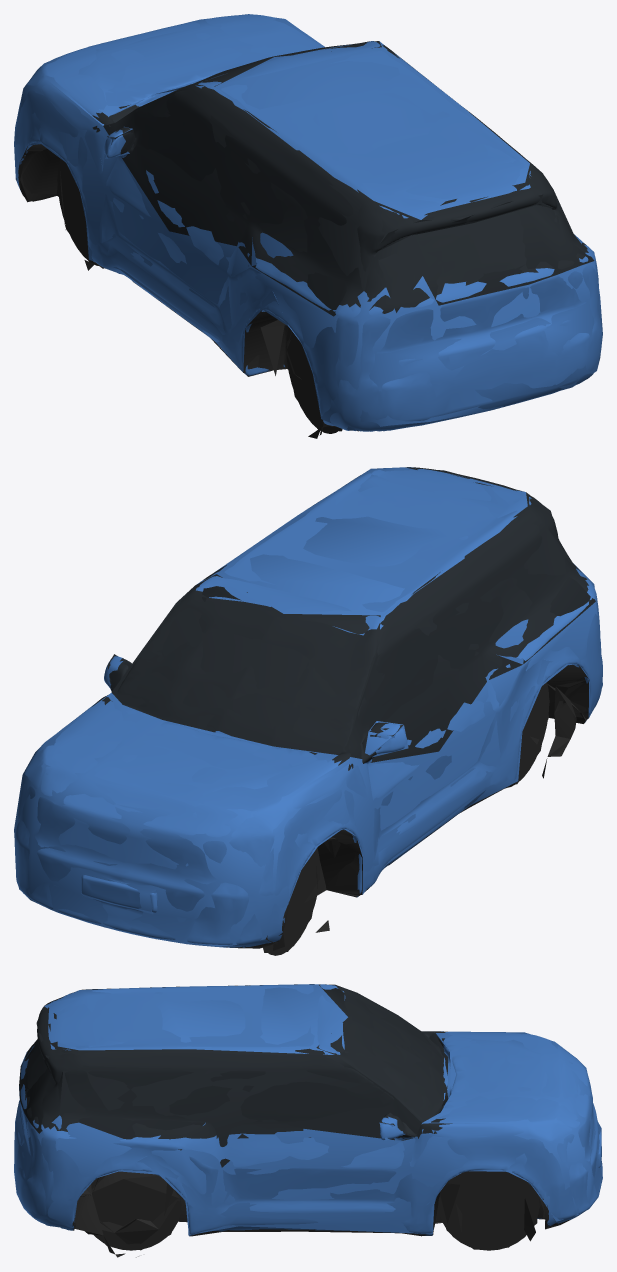
File: kia-ev9.glb
3 renders of one model, top to bottom at view 1: azimuth 30°, elevation 25°; view 2: azimuth 150°, elevation 25°; view 3: azimuth 270°, elevation 25°, orthographic. The views are drawn at different scales.
Parts seen in each view (by area): view 1: body, far; view 2: body, far; view 3: body, far.
Boxes of the visible parts, x1=… form: body: x1=14, y1=14, x2=601, y2=437; far: x1=14, y1=14, x2=602, y2=438; body: x1=14, y1=467, x2=602, y2=955; far: x1=14, y1=467, x2=602, y2=952; body: x1=14, y1=984, x2=602, y2=1257; far: x1=14, y1=984, x2=602, y2=1256.
Bounding box in the file's own units: 2.33 × 1.86 × 5.03.
